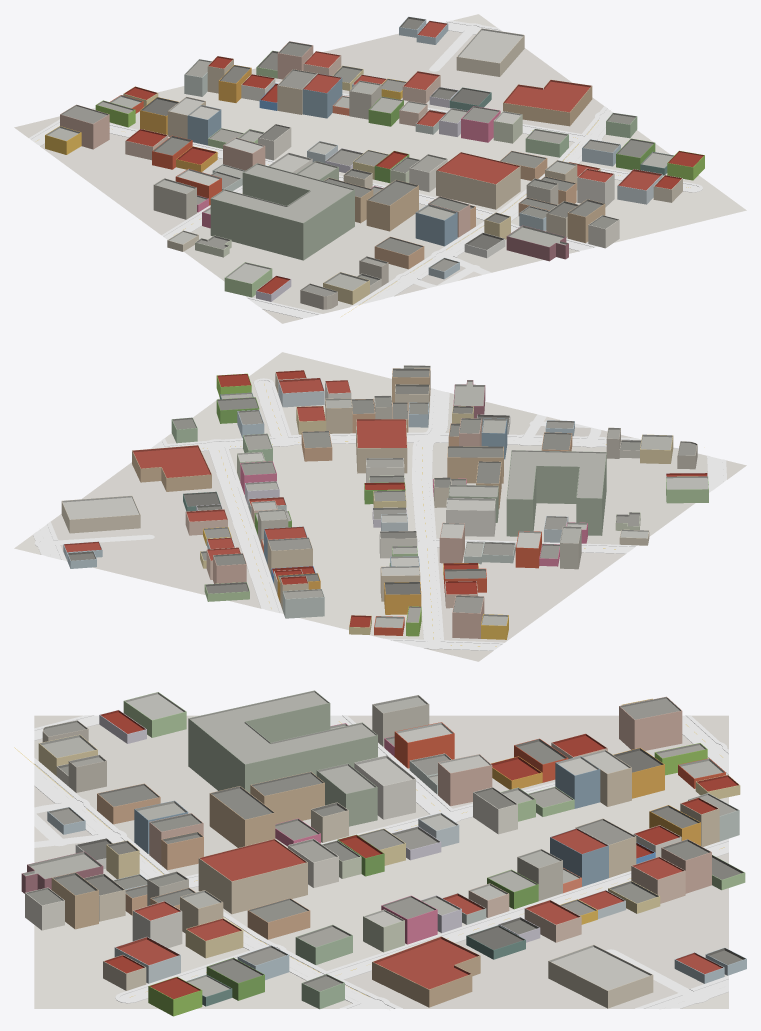
3 renders of one model, top to bottom at view 1: azimuth 30°, elevation 25°; view 2: azimuth 150°, elevation 25°; view 3: azimuth 270°, elevation 25°, orthographic. The views are drawn at different scales.
Parts seen in each view (by area): view 1: walls, roofs, ground, asphalt, sidewalk; view 2: ground, roofs, walls, asphalt, sidewalk; view 3: walls, roofs, ground, asphalt, sidewalk.
Part boxes in pixels (x1,y1,x2,y2): walls: [45, 20, 704, 309]; roofs: [45, 16, 704, 296]; ground: [14, 14, 746, 323]; asphalt: [31, 22, 699, 317]; sidewalk: [29, 20, 702, 318]; ground: [14, 352, 746, 661]; roofs: [62, 365, 708, 628]; walls: [61, 370, 708, 639]; asphalt: [37, 380, 723, 649]; sidewalk: [33, 378, 726, 650]; walls: [21, 701, 746, 1016]; roofs: [22, 690, 746, 999]; ground: [34, 715, 728, 1008]; asphalt: [34, 715, 728, 1008]; sidewalk: [34, 715, 728, 1008].
Size of what is drawn, in the model's own units: 262 by 19.16 by 264.
